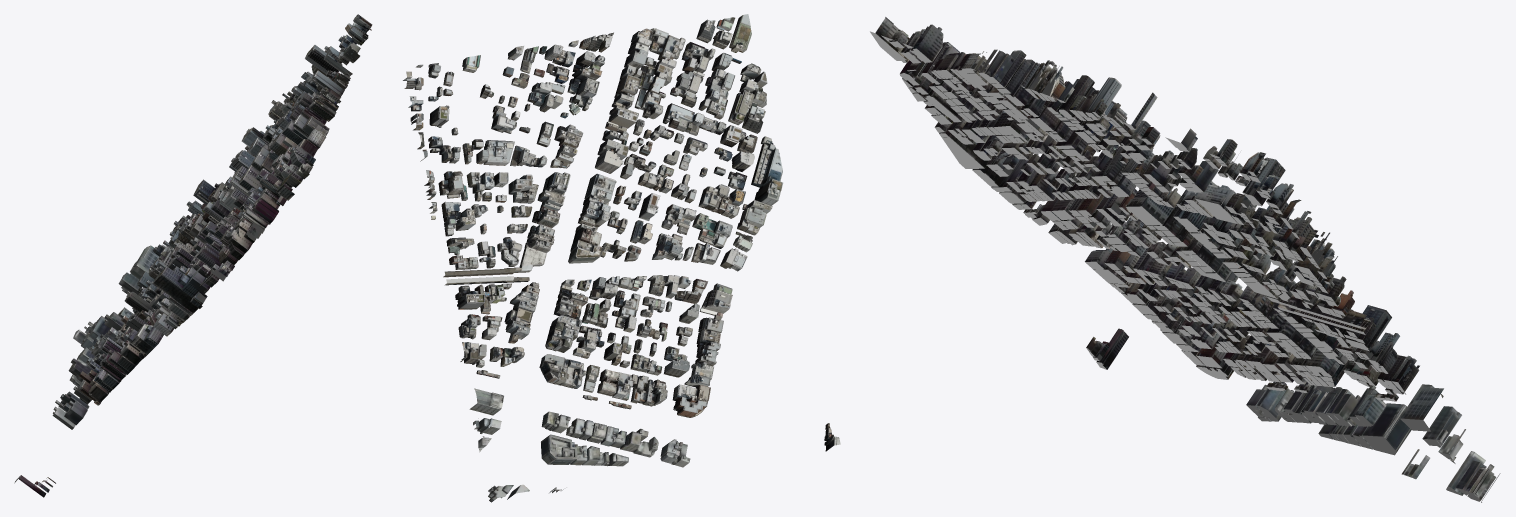
Rendered from 9885_bldg_Building.glb.
3 views of the same model, side by side, from view 1: azimuth 30°, elevation 25°; view 2: azimuth 150°, elevation 25°; view 3: azimuth 270°, elevation 25° (orthographic). The views are drawn at different scales.
Size of the model in its own units: 615 by 519 by 629.
Materials: 10 (8 with a texture image).
